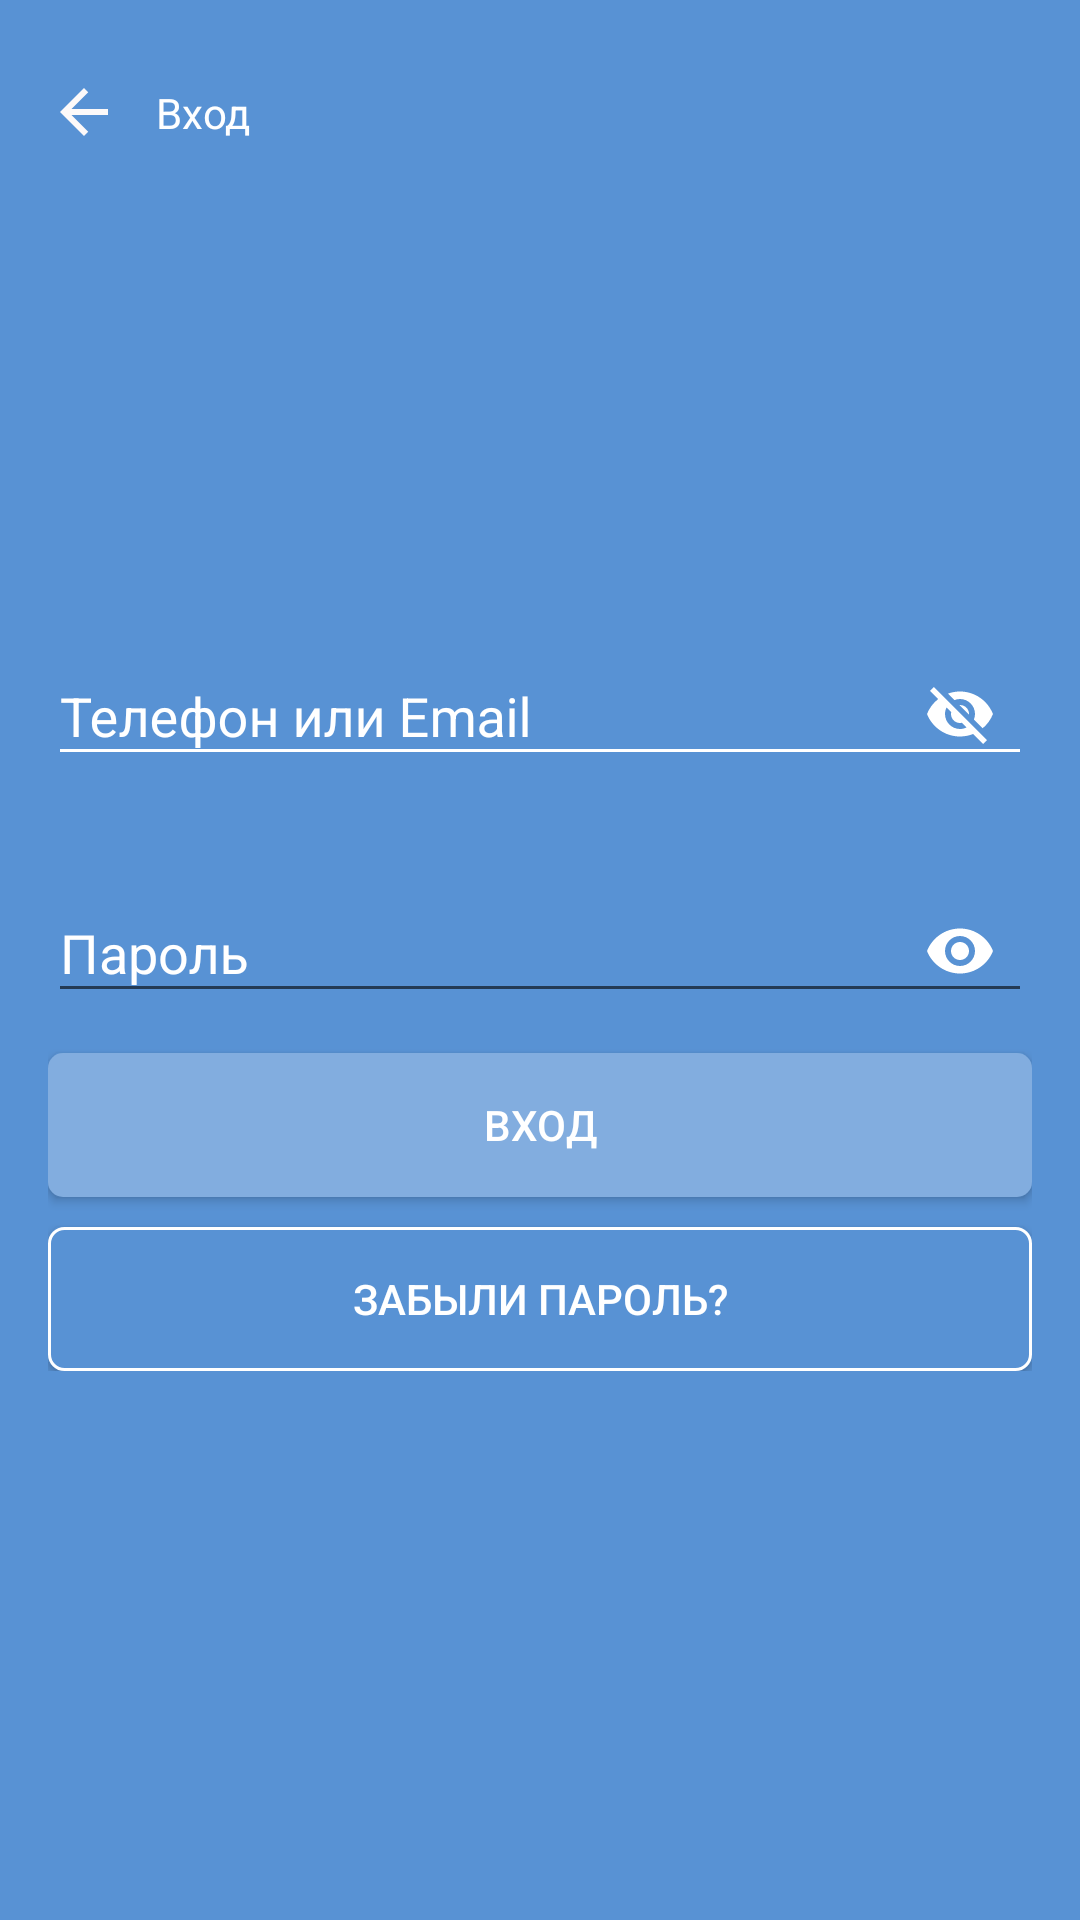

Locate icon controls on the screen. Image size 1080 × 1920, boxes as (x1, y1, x2, y2).
arrow back: (60, 88, 108, 136)
